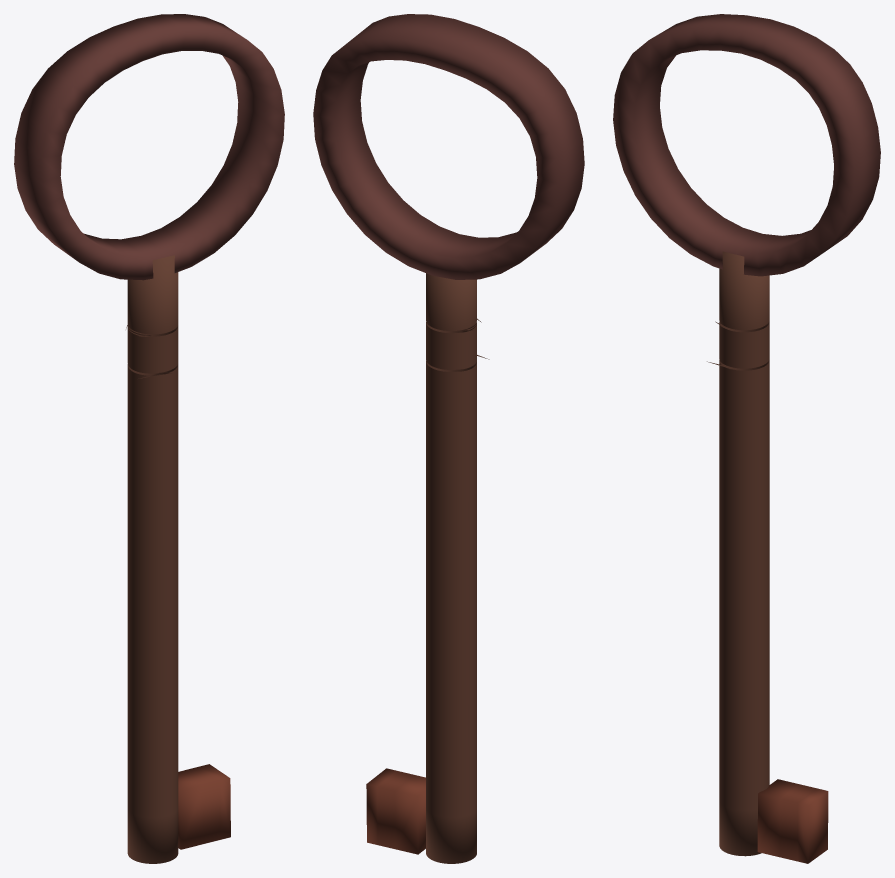
The model's file is Storage Key.fbx.
3 renders of one model, left to right at view 1: azimuth 30°, elevation 25°; view 2: azimuth 150°, elevation 25°; view 3: azimuth 330°, elevation 25°, orthographic.
Parts seen in each view (by area): view 1: Cylinder, Circle, Cylinder.001; view 2: Circle, Cylinder, Cylinder.001; view 3: Circle, Cylinder, Cylinder.001.
Boxes of the visible parts, left/top/right/bottom form: Cylinder: left=126, top=255, right=178, bottom=863; Circle: left=14, top=14, right=284, bottom=280; Cylinder.001: left=178, top=764, right=230, bottom=849; Circle: left=313, top=14, right=584, bottom=279; Cylinder: left=426, top=273, right=489, bottom=863; Cylinder.001: left=366, top=768, right=425, bottom=854; Circle: left=613, top=14, right=880, bottom=276; Cylinder: left=707, top=251, right=769, bottom=856; Cylinder.001: left=757, top=779, right=828, bottom=863.
Bounding box in the file's own units: 11.13 × 35.81 × 2.89.
